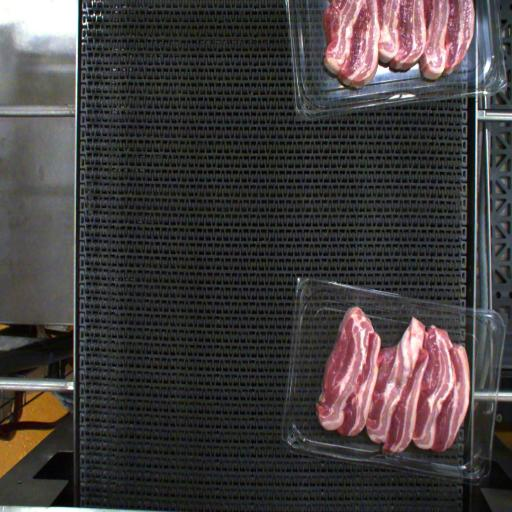packaging-error: (351, 290, 364, 311)
